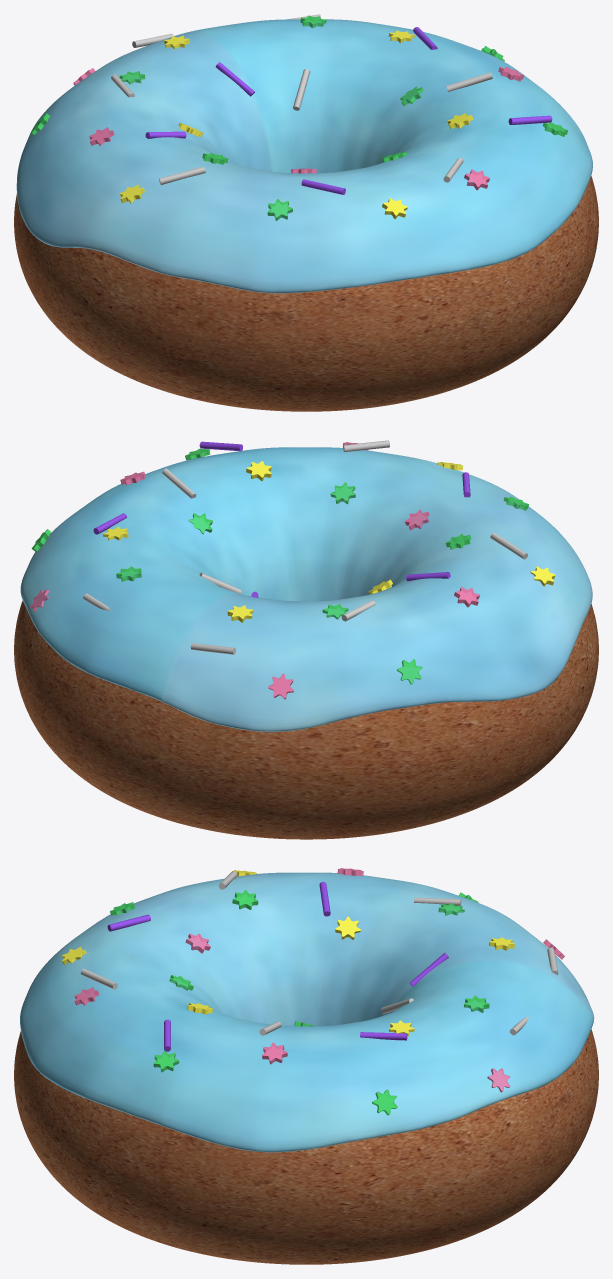
The model's file is blue_donut.glb.
3 views of the same model, one above another, from view 1: azimuth 30°, elevation 25°; view 2: azimuth 150°, elevation 25°; view 3: azimuth 270°, elevation 25° (orthographic).
Visible parts, largest first — view 1: 3DSMeshMatrix (×7); view 2: 3DSMeshMatrix (×7); view 3: 3DSMeshMatrix (×7).
Part boxes in pixels (<box>): 3DSMeshMatrix (×7): <box>14,14,598,411</box>; 3DSMeshMatrix (×7): <box>14,440,598,839</box>; 3DSMeshMatrix (×7): <box>14,868,598,1264</box>.
Bounding box in the file's own units: 130 × 55.76 × 129.
7 materials, 2 textured.
